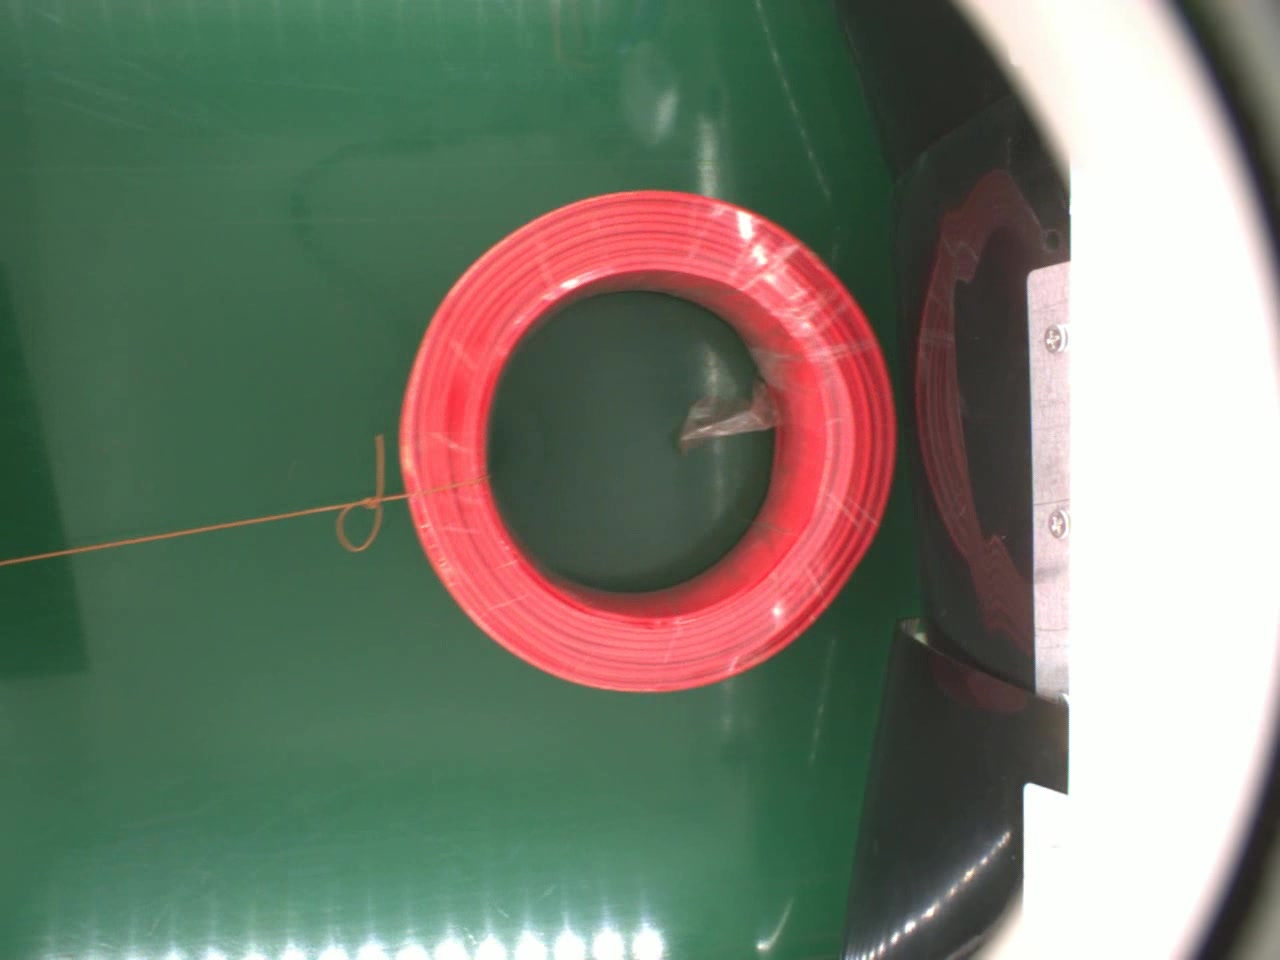red: (398, 186, 904, 694)
